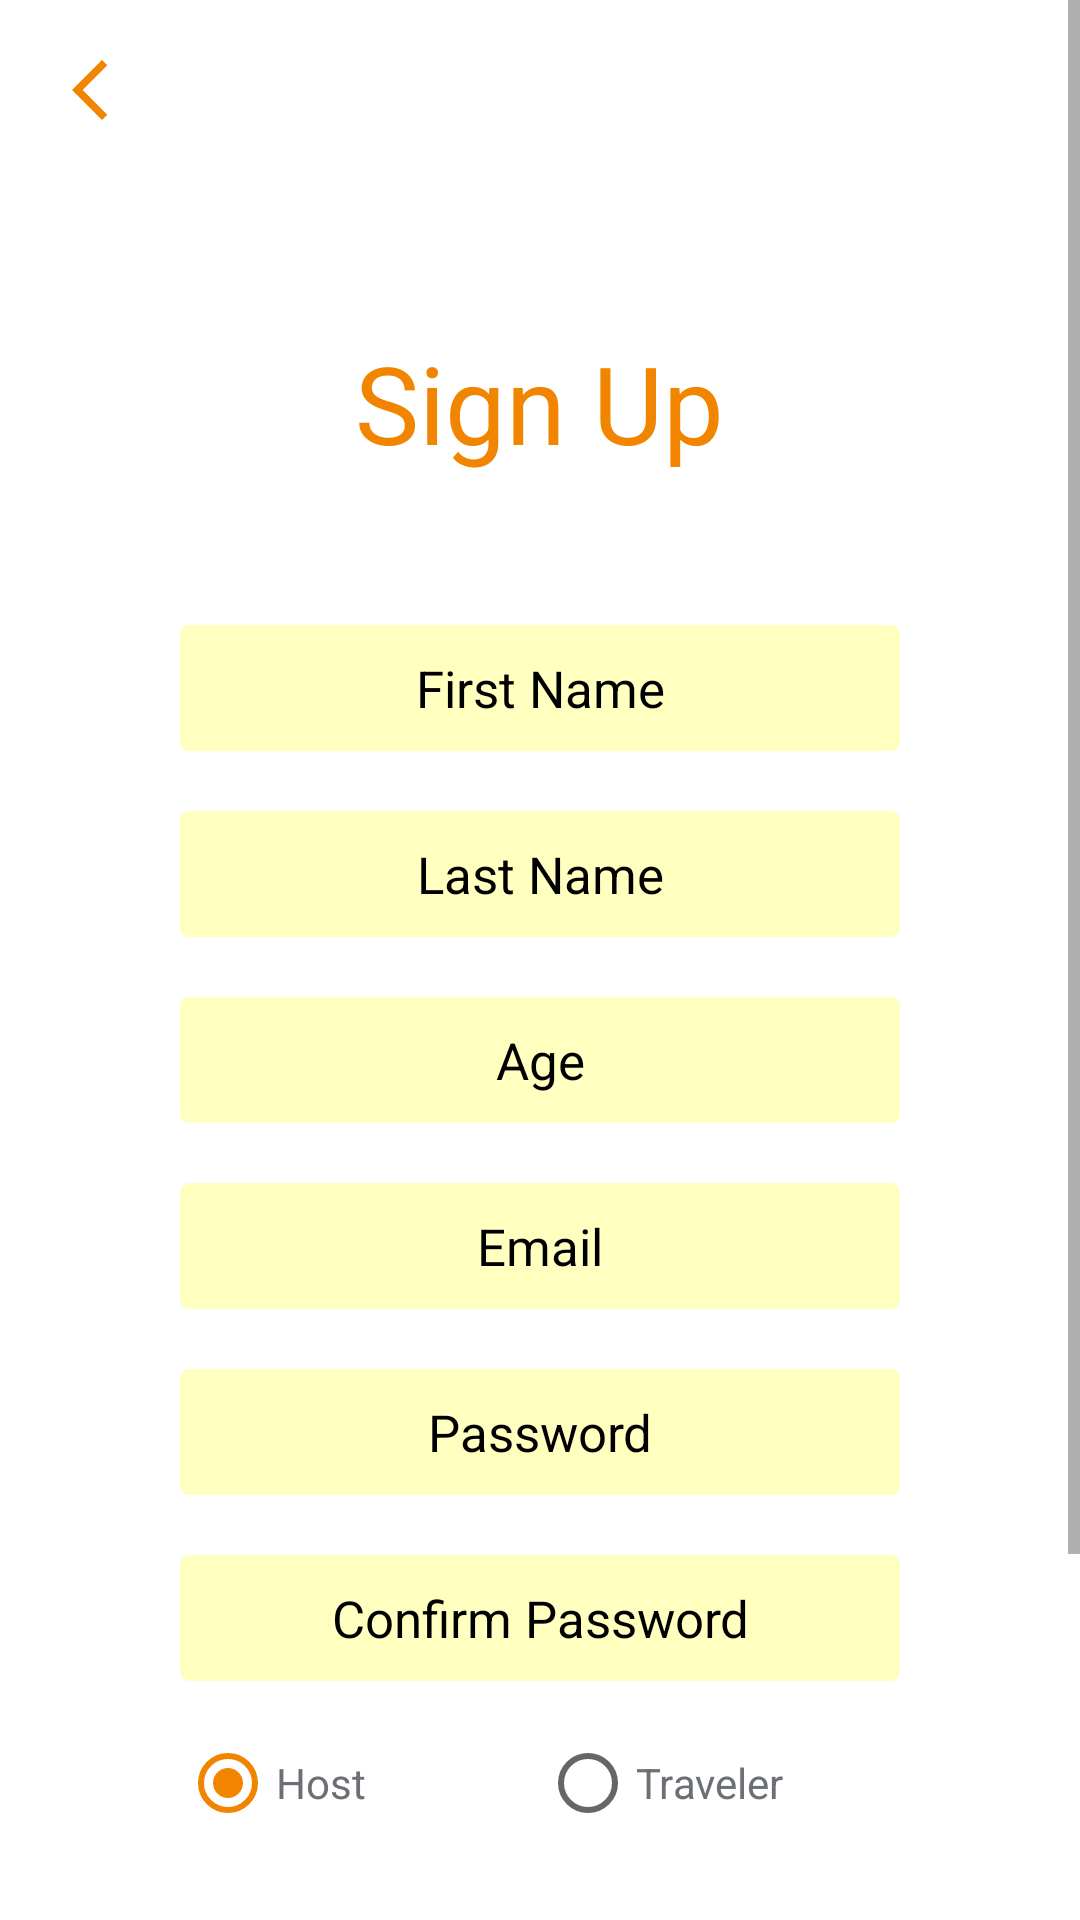

Named icons in this screenshot (1080×1920) and their bounding boxes, box(x1, y1, x2, y2):
back: box(72, 60, 107, 120)
